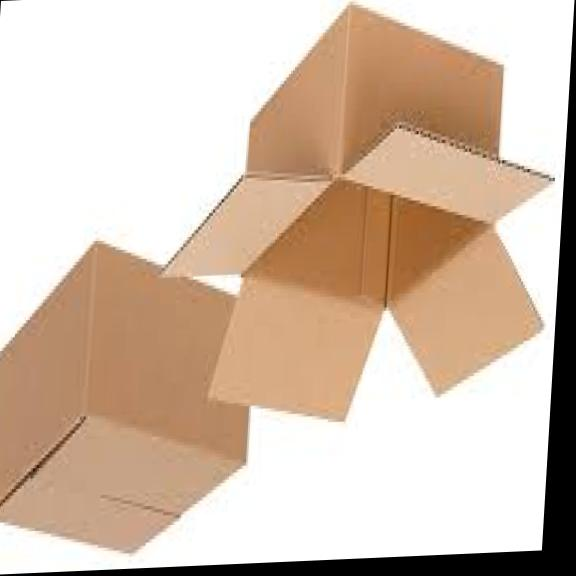Kertas: (165, 4, 550, 417), (0, 244, 248, 552)
